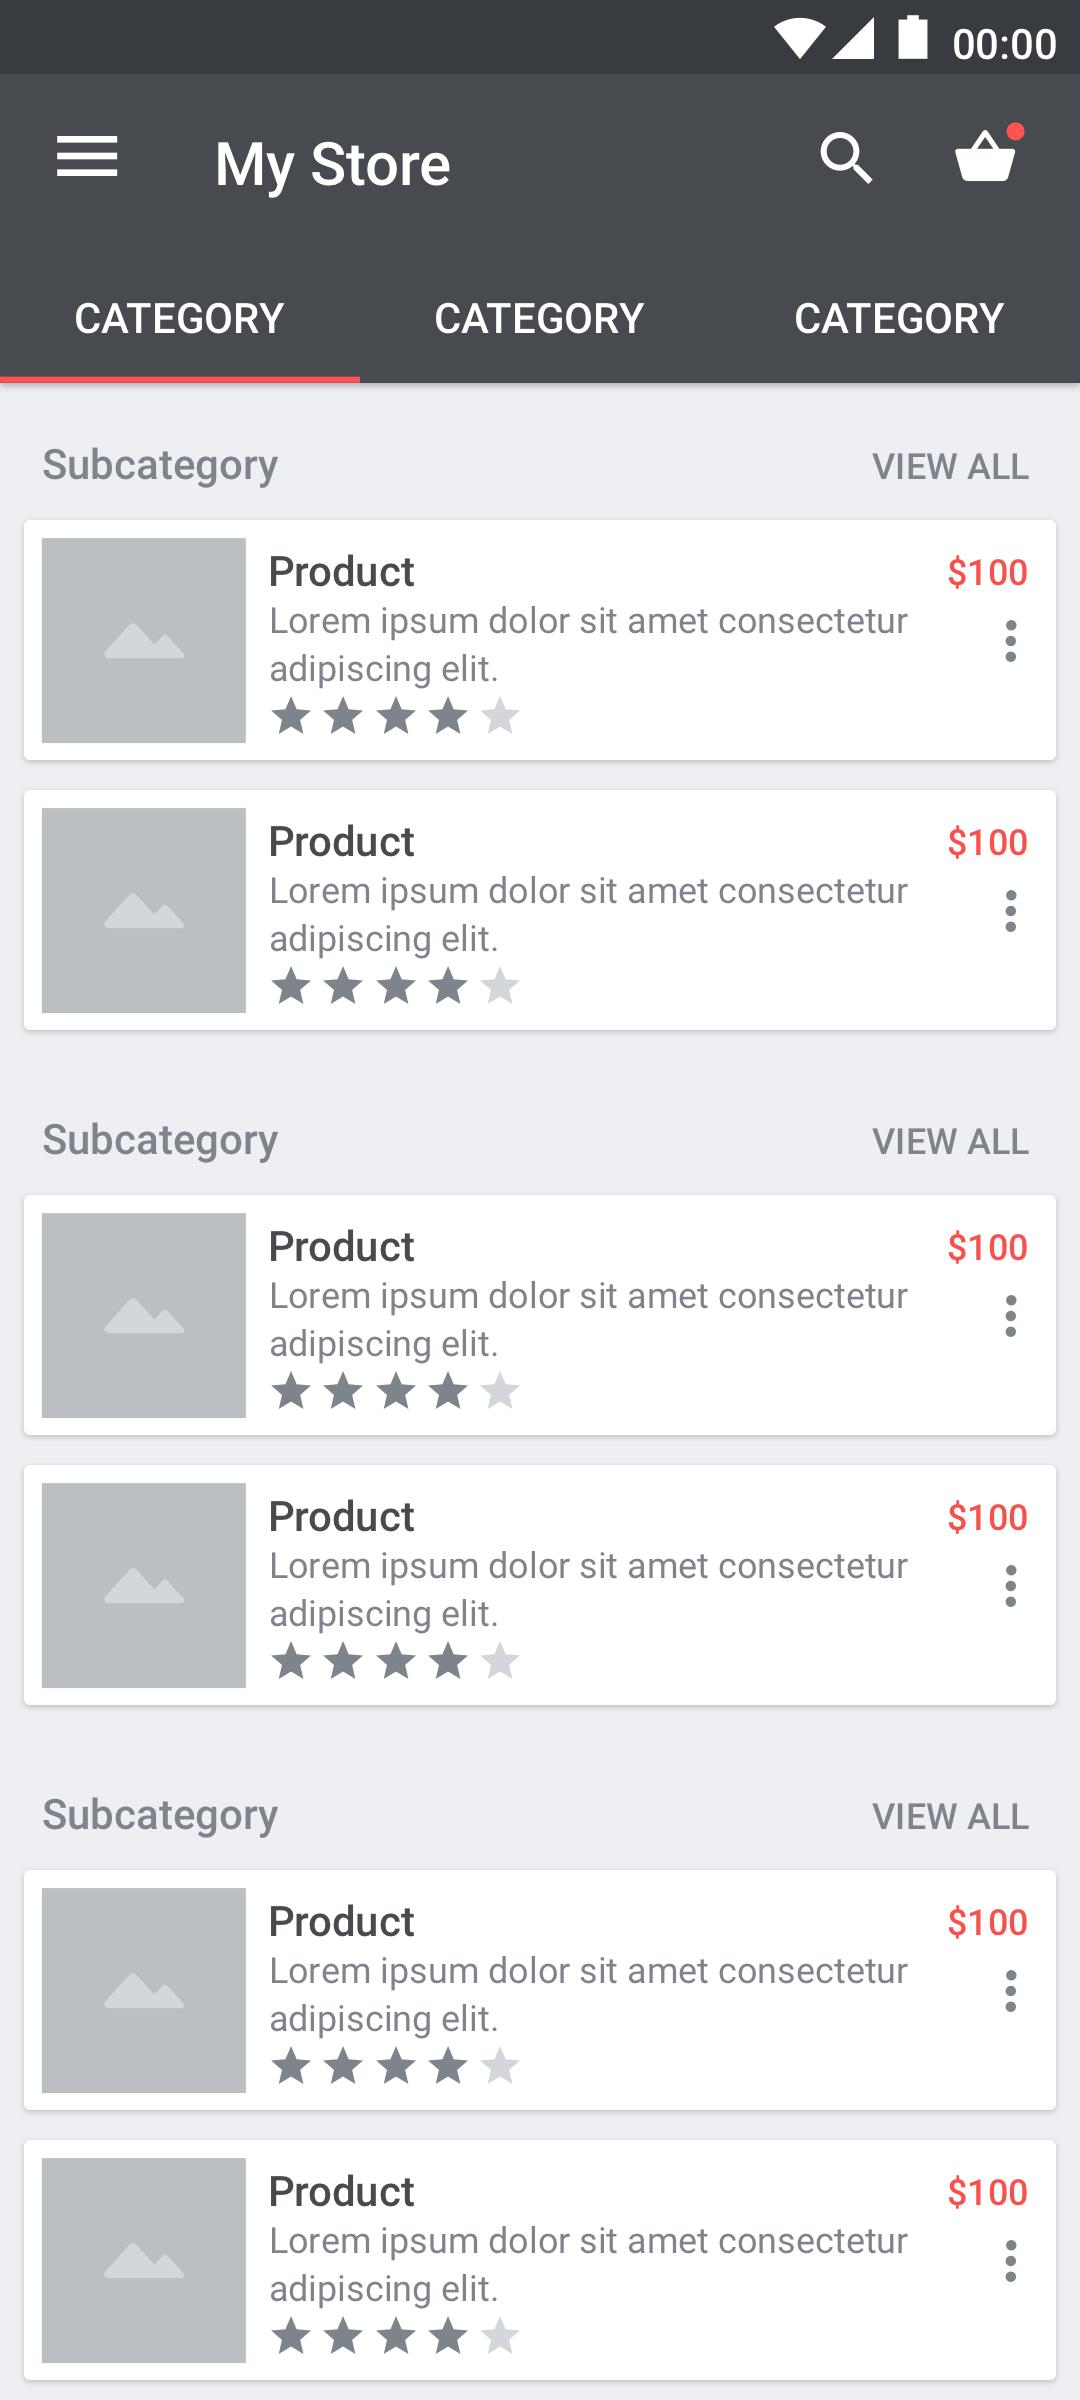Card: (24, 2138, 1057, 2382), (24, 1869, 1057, 2112), (24, 1463, 1057, 1707), (24, 1194, 1057, 1437), (24, 788, 1057, 1032), (23, 520, 1057, 762)
Icon: (269, 2314, 522, 2359), (269, 1639, 520, 1681), (269, 2046, 520, 2086), (271, 966, 522, 1006), (272, 1371, 522, 1411), (271, 696, 522, 735), (953, 122, 1026, 184), (818, 130, 873, 187), (55, 135, 119, 179), (1004, 618, 1017, 664), (1004, 1293, 1017, 1339), (1004, 2238, 1017, 2284), (1004, 889, 1017, 934), (1004, 1564, 1017, 1609), (1005, 1968, 1017, 2013)
Image: (43, 537, 248, 742), (43, 1214, 248, 1419), (43, 2158, 248, 2363), (43, 810, 248, 1013), (43, 1483, 246, 1688), (43, 1887, 246, 2092)
Text: (269, 876, 912, 961), (269, 605, 909, 690), (269, 1551, 909, 1636), (269, 1280, 907, 1365), (269, 1956, 909, 2039), (269, 2227, 909, 2310), (216, 141, 451, 201), (43, 1120, 280, 1165), (44, 1795, 281, 1840), (41, 445, 280, 488), (75, 302, 286, 337), (434, 302, 646, 337), (794, 302, 1007, 335), (269, 1498, 418, 1534), (269, 1229, 416, 1264), (269, 1903, 416, 1938), (271, 2173, 418, 2209), (271, 823, 416, 859), (271, 556, 418, 589), (870, 452, 1031, 481), (870, 1127, 1031, 1156), (870, 1802, 1030, 1831), (948, 823, 1028, 862), (947, 554, 1030, 591), (947, 2173, 1028, 2210), (948, 1498, 1028, 1535), (948, 1903, 1028, 1939), (948, 1229, 1028, 1264)
UpperTaskBar: (2, 2, 1080, 75)
